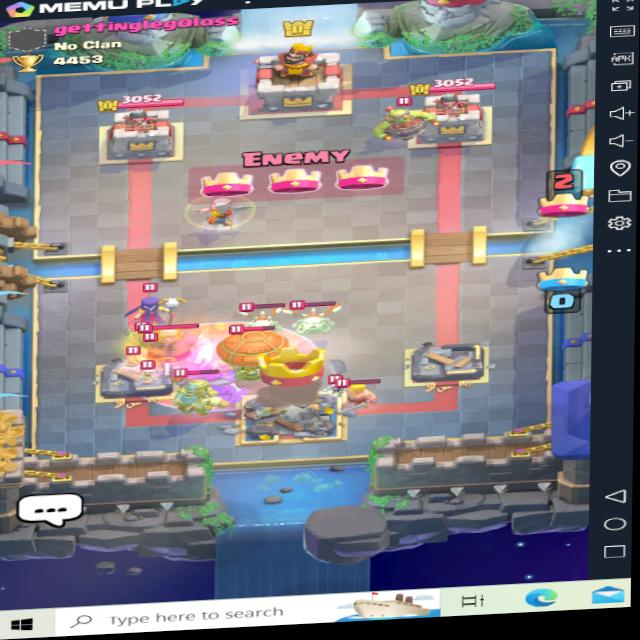Balloon: (211, 319, 281, 388)
Barbarian: (331, 373, 378, 406)
Battlehealer: (186, 181, 258, 234)
Giant: (119, 307, 209, 363)
Goblindemolisher: (367, 93, 453, 145)
Prince: (174, 364, 228, 418)
Skeleton: (130, 358, 158, 378)
Skeletondragon: (284, 297, 343, 337), (227, 300, 287, 339)
witch: (127, 282, 173, 326)
